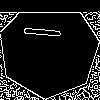I: (24, 23, 71, 41)
